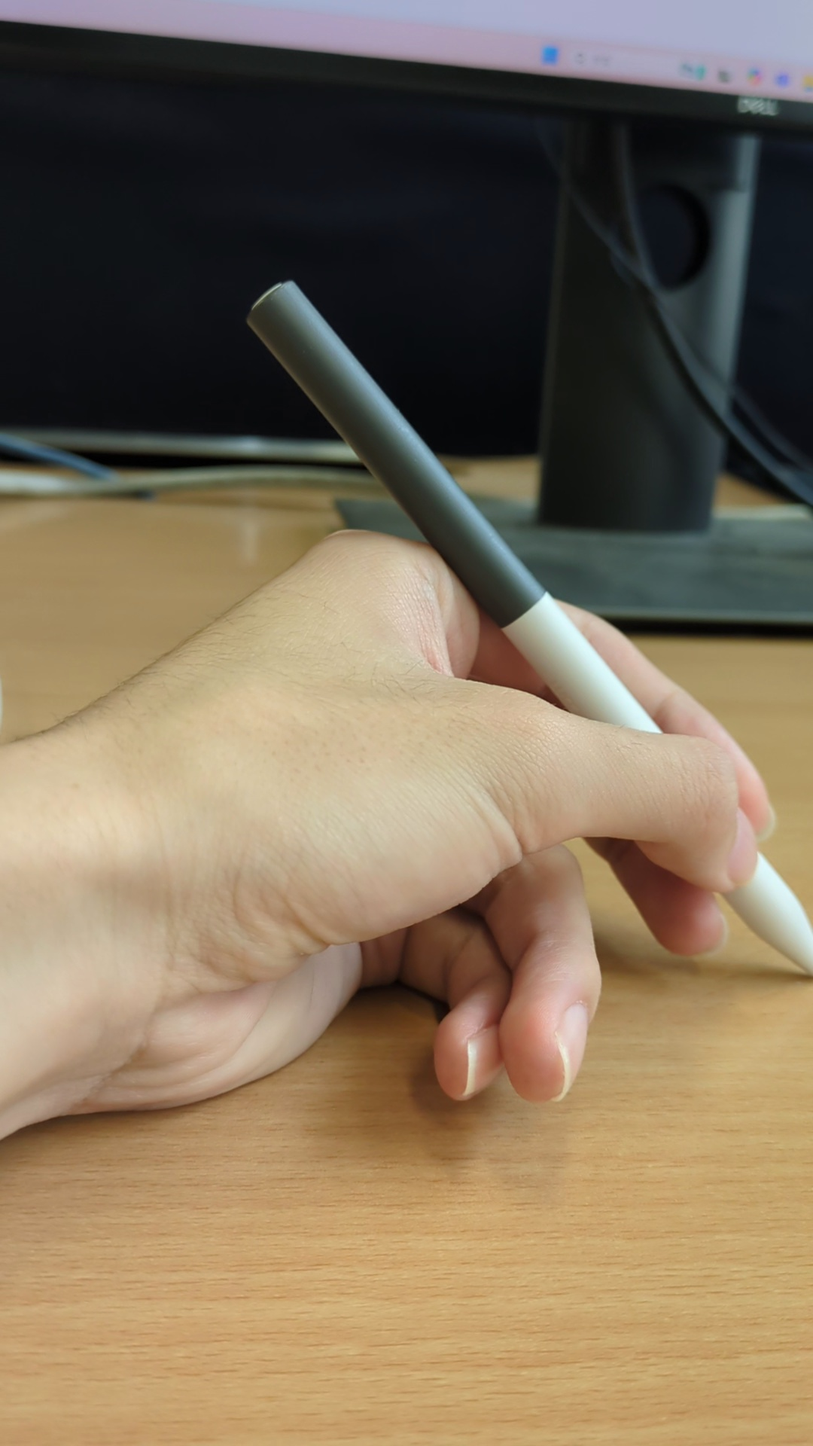pen: (243, 276, 811, 980)
